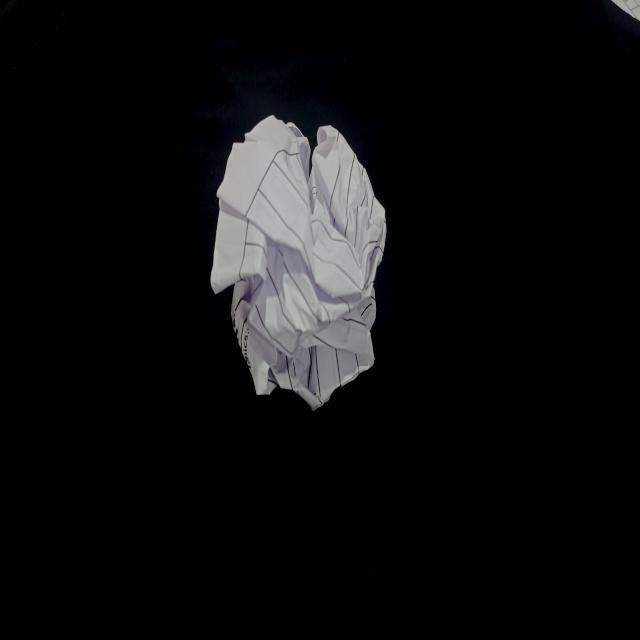PaperBall: (211, 115, 386, 404)
